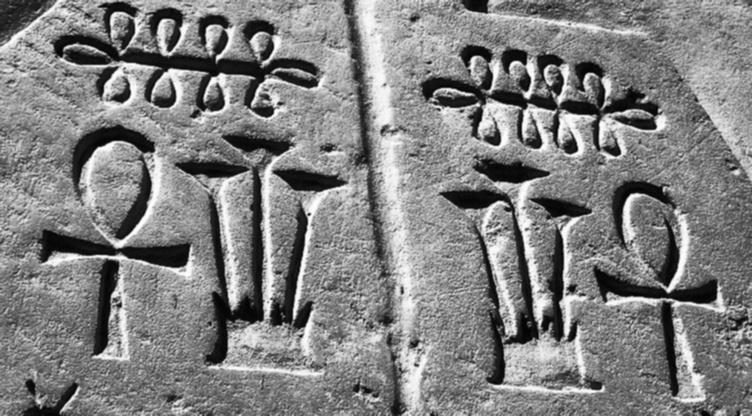Ankh: (29, 120, 201, 368), (586, 172, 729, 408)
